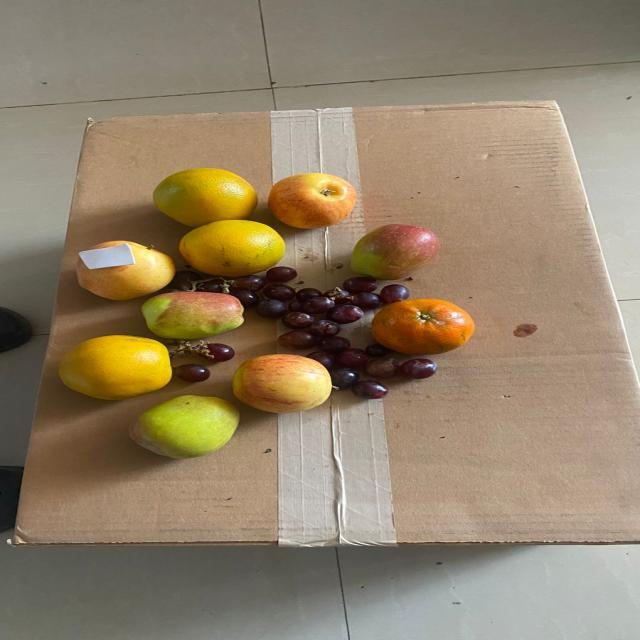hoja: (78, 248, 135, 268)
